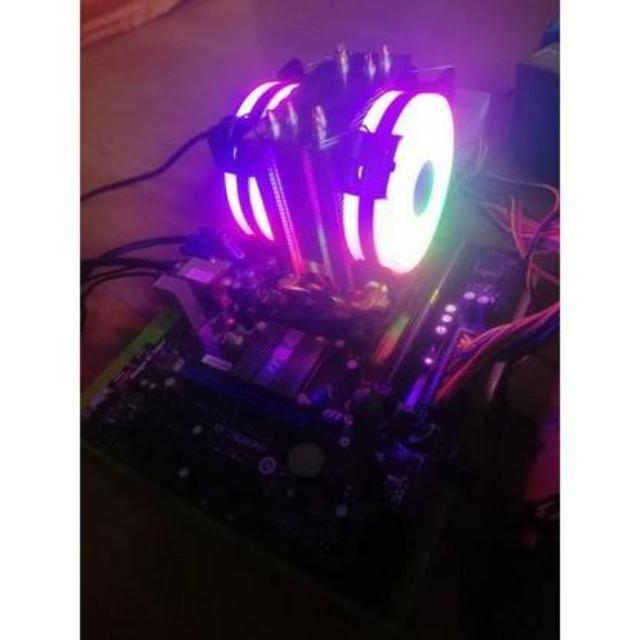CPU_Fan: (207, 46, 458, 306)
